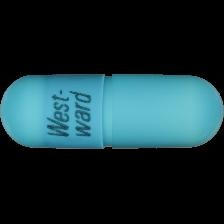52959-236: (0, 0, 224, 224)
